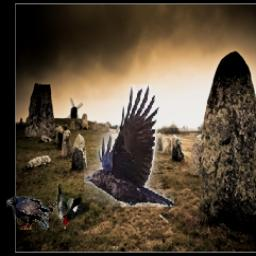Crow: (85, 84, 175, 207), (6, 197, 49, 231)
Woodpecker: (49, 184, 89, 230)
